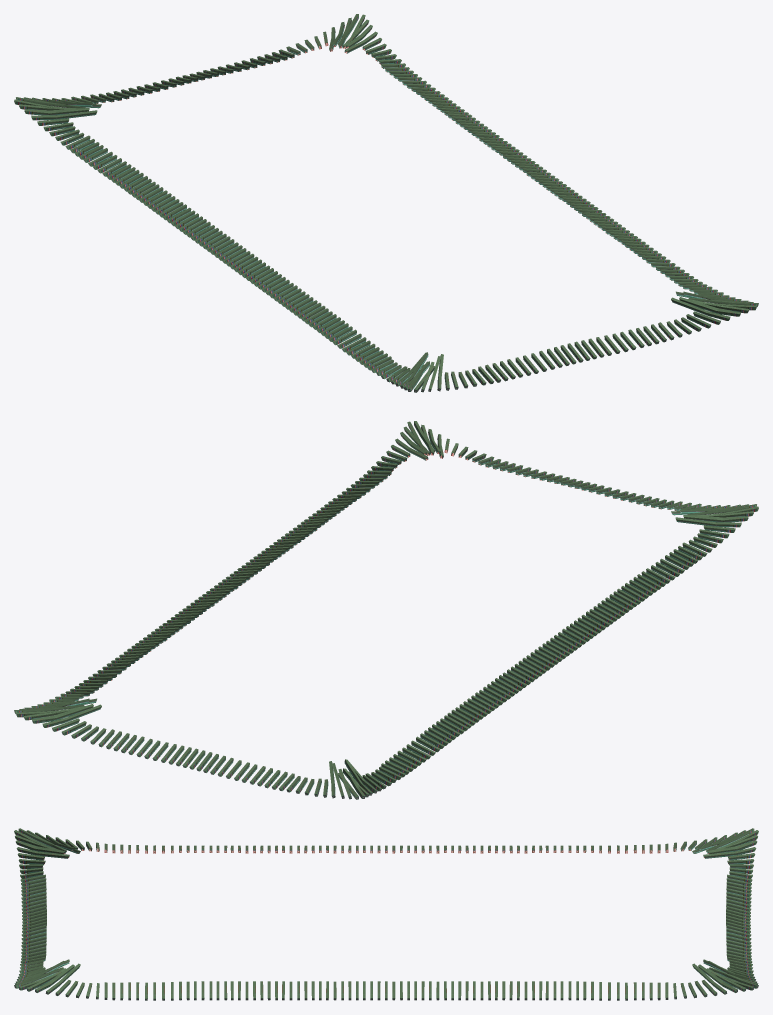
The model's file is SM_Buyeon05A.fbx.
3 views of the same model, one above another, from view 1: azimuth 30°, elevation 25°; view 2: azimuth 150°, elevation 25°; view 3: azimuth 270°, elevation 25° (orthographic). The views are drawn at different scales.
Parts seen in each view (by area): view 1: SM_Buyeon05A; view 2: SM_Buyeon05A; view 3: SM_Buyeon05A.
Part boxes in pixels (box(x1,y1,x2,y2)): SM_Buyeon05A: box(14, 14, 758, 392); SM_Buyeon05A: box(14, 421, 758, 799); SM_Buyeon05A: box(14, 828, 758, 1000).
Size of the model in its own units: 1422 by 2805 by 78.07.
